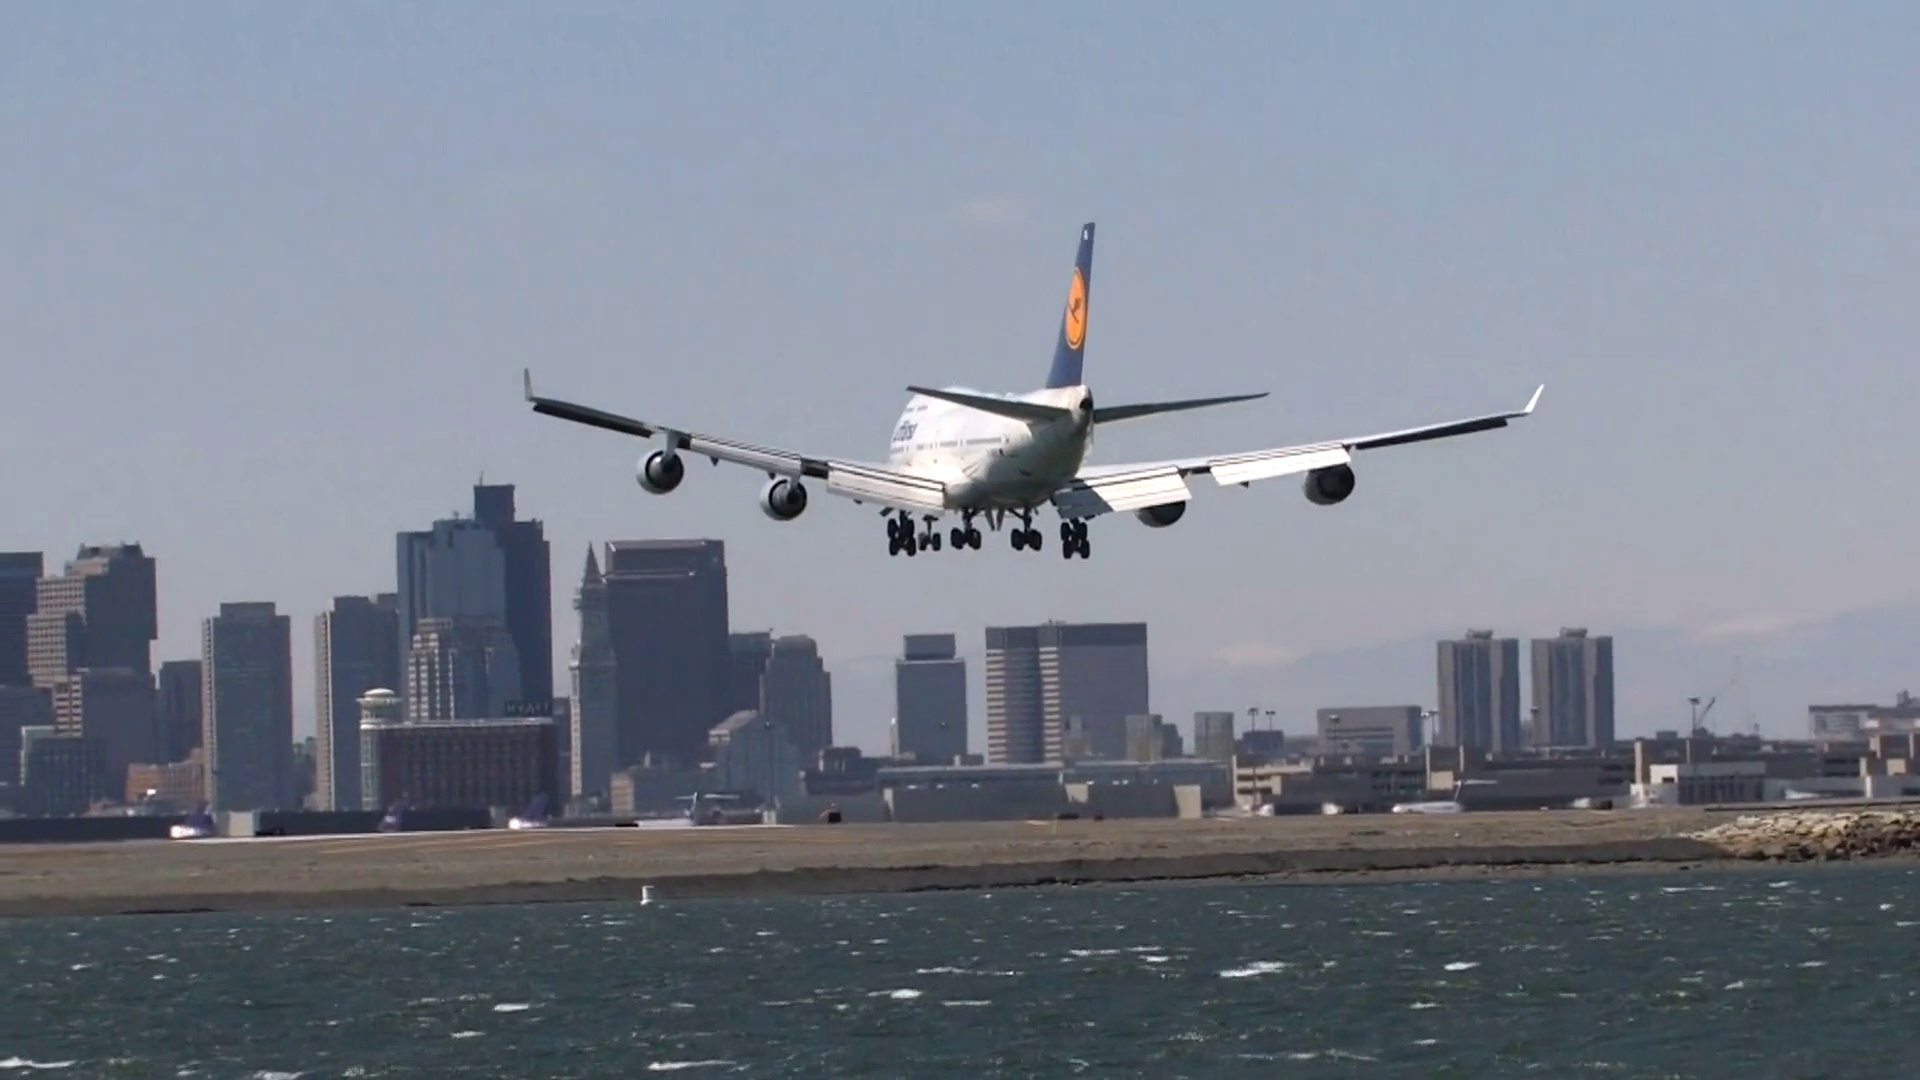plane: (521, 222, 1545, 558)
